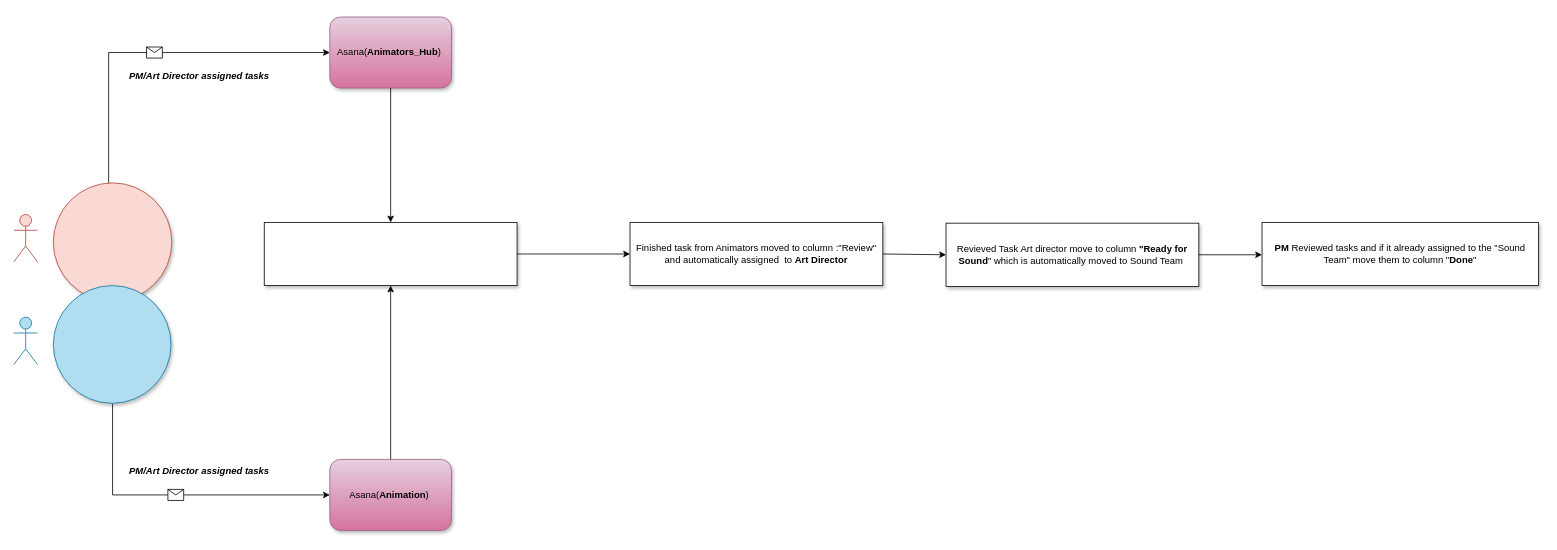
The diagram is 1557 pixels wide and 550 high, and some of its shapes have lost their labels. The centre of each missing label's shape, as x and y in pixels:
Art Director assigned tasks according to project needs: the point at 112,345
PM assigned tasks according to current Milestone: the point at 113,243
Tasks will be splited by dependencies and assigned for Animators by Art Director: the point at 391,254
